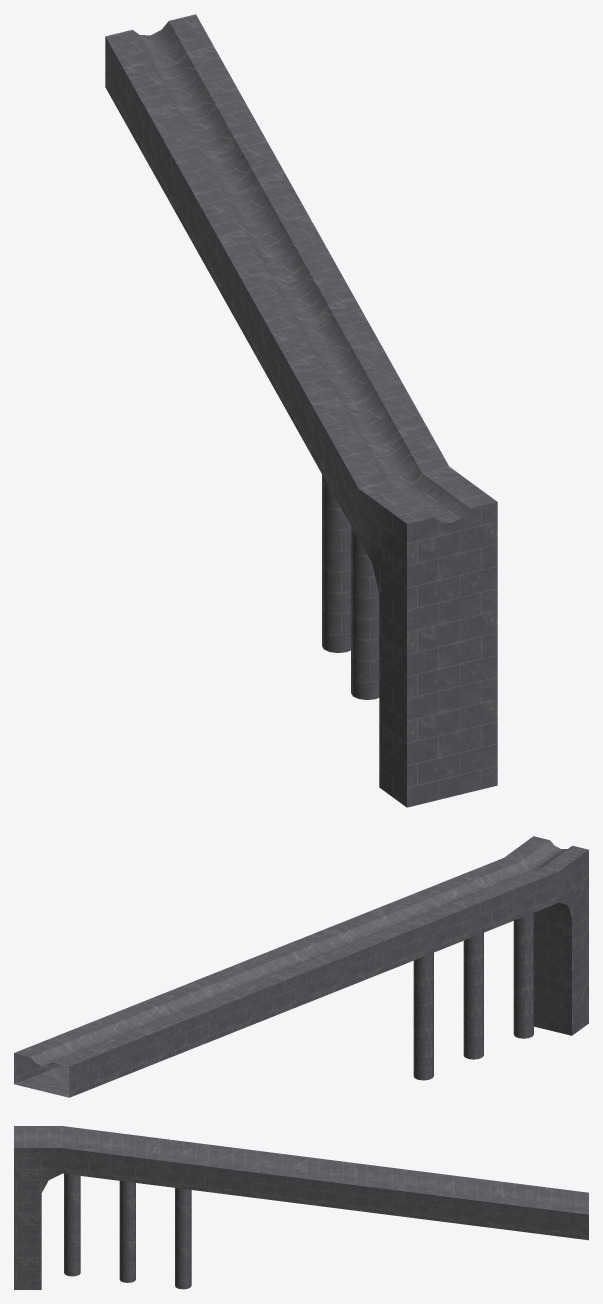
The model's file is Aquaduct_top_001.fbx.
3 renders of one model, top to bottom at view 1: azimuth 30°, elevation 25°; view 2: azimuth 150°, elevation 25°; view 3: azimuth 270°, elevation 25°, orthographic. The views are drawn at different scales.
Parts seen in each view (by area): view 1: pCube1, pylon_3, pylon_2; view 2: pCube1, pylon_3, pylon_2, pylon_1; view 3: pCube1, pylon_1, pylon_2, pylon_3.
Boxes of the visible parts, box(x1,y1,x2,y2) form: pCube1: box(105, 14, 497, 807); pylon_3: box(322, 474, 350, 652); pylon_2: box(351, 526, 379, 699); pCube1: box(14, 836, 588, 1097); pylon_3: box(413, 952, 433, 1080); pylon_2: box(463, 933, 483, 1059); pylon_1: box(513, 913, 533, 1038); pCube1: box(14, 1126, 588, 1289); pylon_1: box(64, 1174, 80, 1276); pylon_2: box(119, 1181, 135, 1282); pylon_3: box(175, 1188, 191, 1289).
Bounding box in the file's own units: 759 × 565 × 2076.
